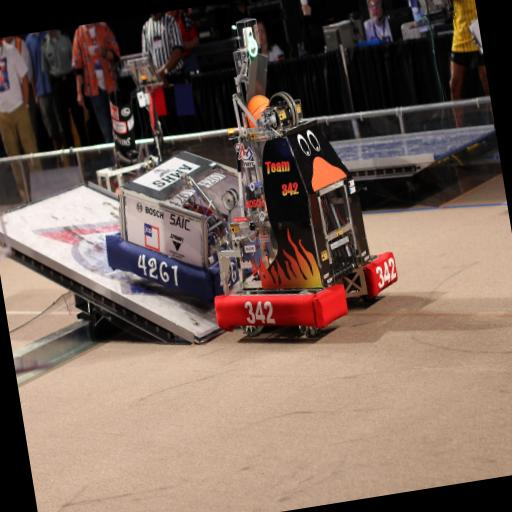robot: (188, 108, 408, 357), (80, 58, 274, 308)
